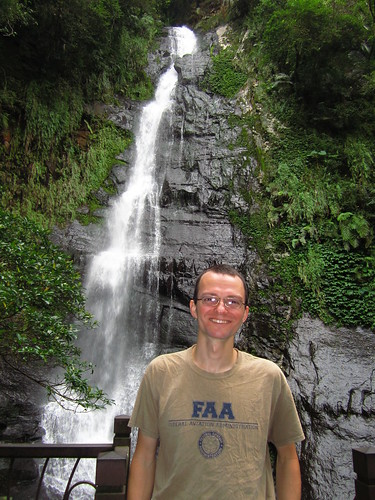wufengciWaterfall: (53, 15, 264, 400)
